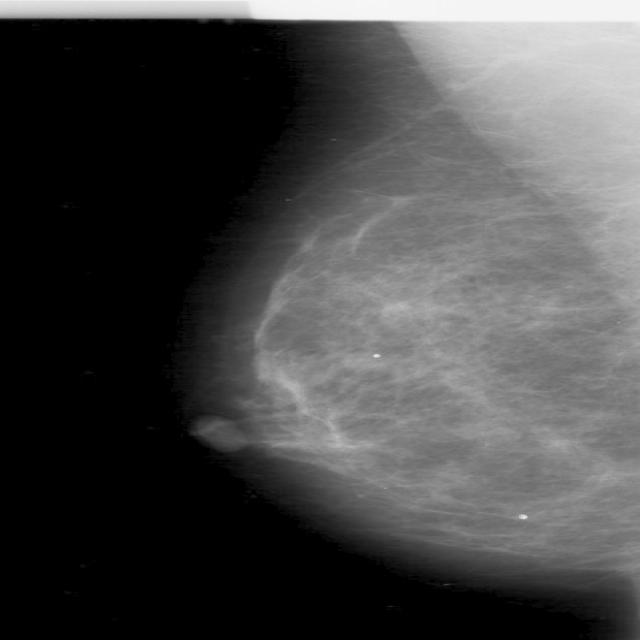tumour: (338, 349, 395, 373)
